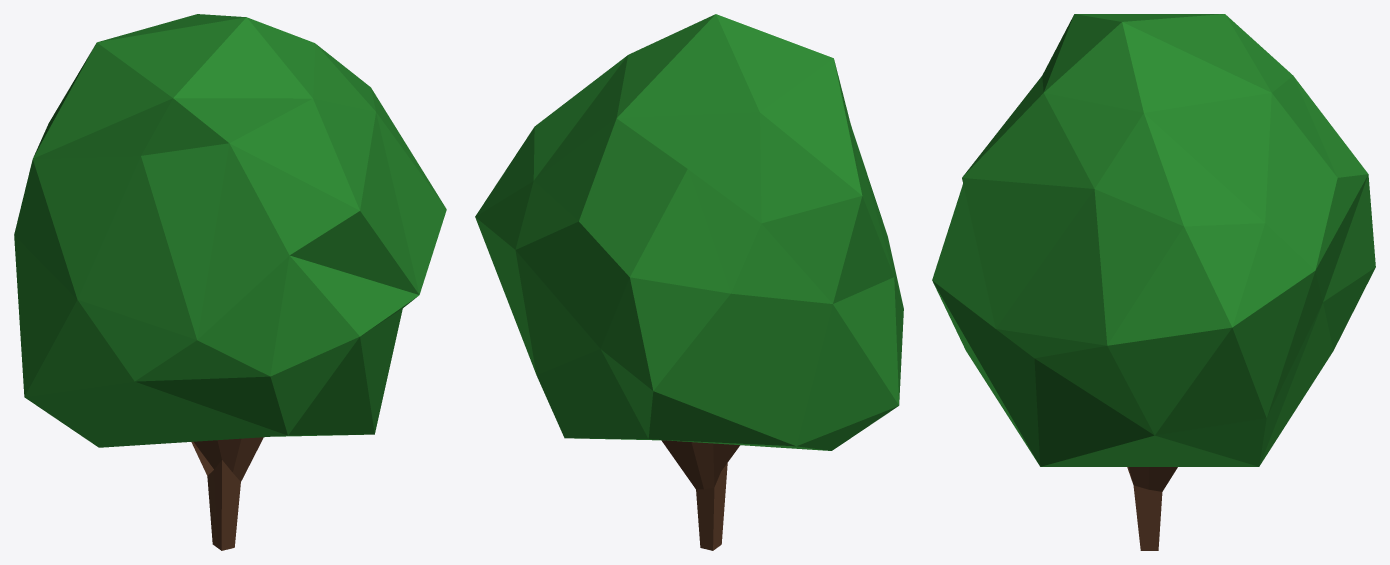
File: Tree_21_Green.fbx
3 renders of one model, left to right at view 1: azimuth 30°, elevation 25°; view 2: azimuth 150°, elevation 25°; view 3: azimuth 270°, elevation 25°, orthographic. The views are drawn at different scales.
Visible parts, largest first — view 1: Tree_21_Green_Part_1, Tree_21_Green_Part_2; view 2: Tree_21_Green_Part_1, Tree_21_Green_Part_2; view 3: Tree_21_Green_Part_1, Tree_21_Green_Part_2.
Part boxes in pixels (x1=…): Tree_21_Green_Part_1: x1=14, y1=14, x2=446, y2=447; Tree_21_Green_Part_2: x1=191, y1=437, x2=263, y2=550; Tree_21_Green_Part_1: x1=475, y1=14, x2=903, y2=450; Tree_21_Green_Part_2: x1=661, y1=440, x2=739, y2=550; Tree_21_Green_Part_1: x1=932, y1=14, x2=1375, y2=466; Tree_21_Green_Part_2: x1=1127, y1=467, x2=1177, y2=550.
Size of the model in its own units: 616 by 793 by 601.
